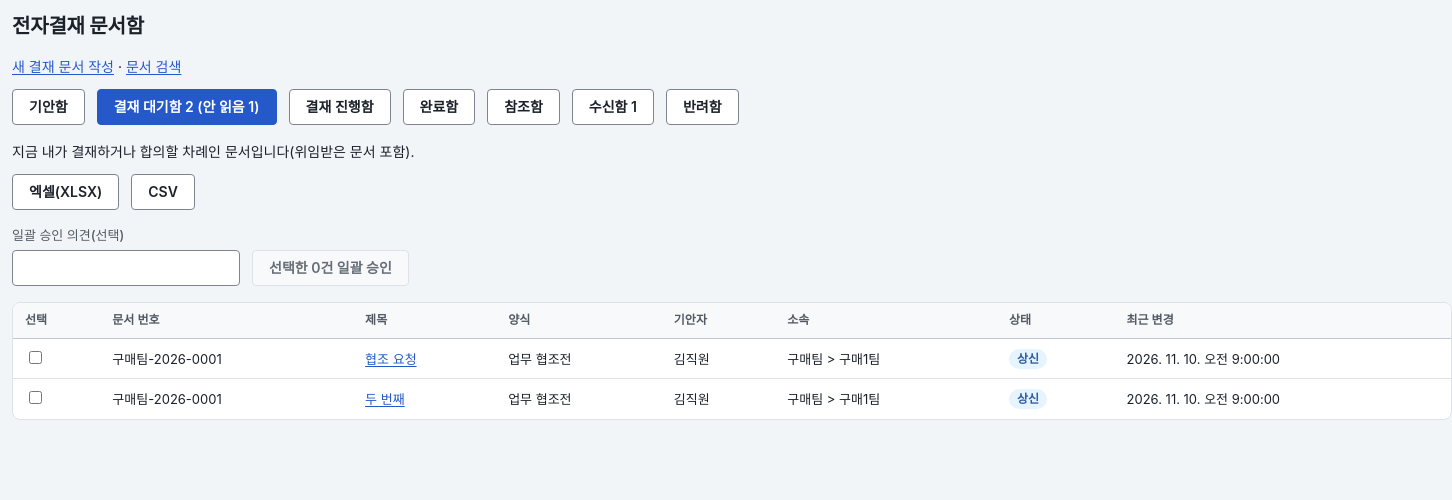
B23 단계 2 문서함 화면 › 결재 대기함에서 고른 문서를 일괄 승인하고, 실패 건은 사유와 함께 보인다
Check: the button "선택한 0건 일괄 승인" is disabled, box [252,250,409,286]
Click the checkbox named "협조 요청 선택". click: coordinates (36, 358)
box: [29,351,42,364]
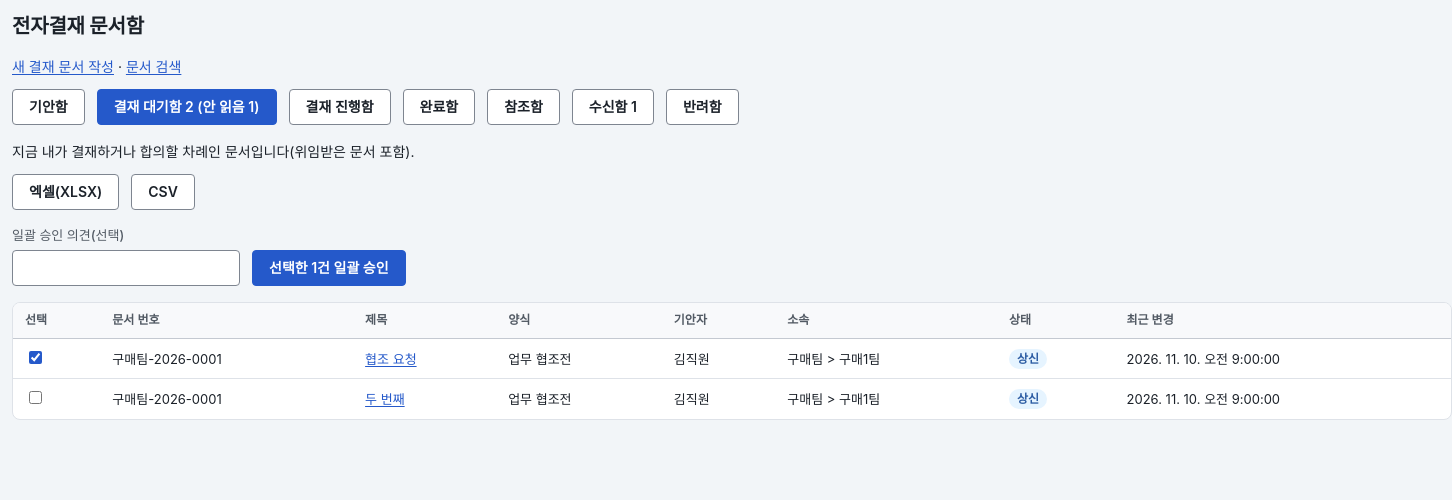
Click the checkbox named "두 번째 선택". click: coordinates (36, 398)
box: [29,391,42,404]
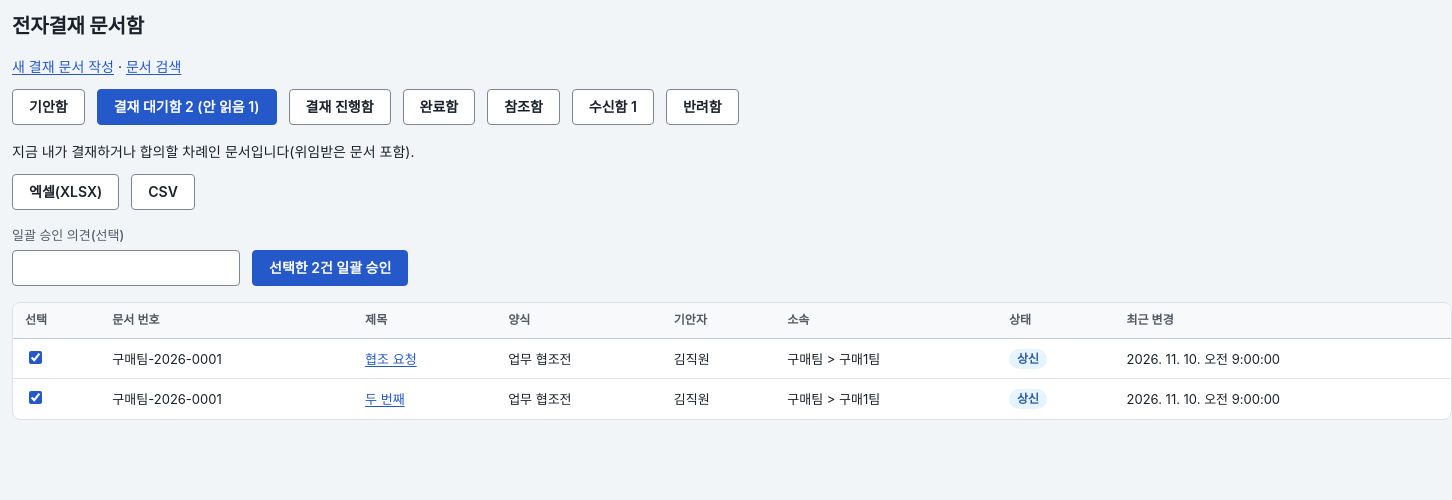
Click the button "선택한 2건 일괄 승인". click: coordinates (330, 268)
box: [252,250,408,286]
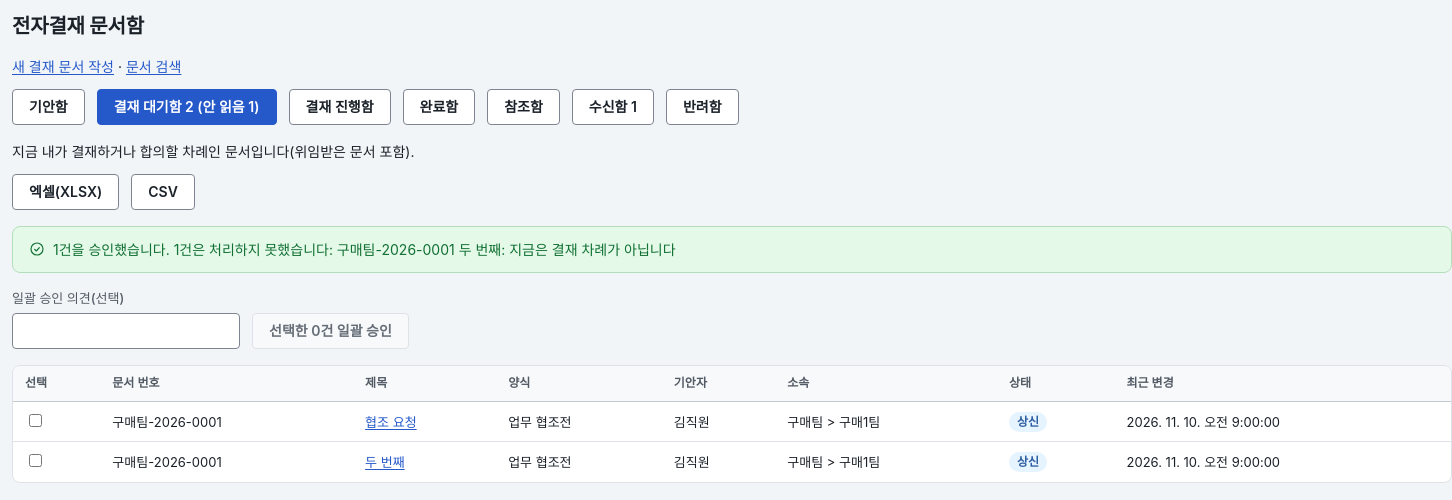
Check: the text "1건을 승인했습니다. 1건은 처리하지 못했습니다: 구매팀-2026-0001 두 번째: 지금은 결재 차례가 아닙니다" is shown, box [53,239,676,260]
